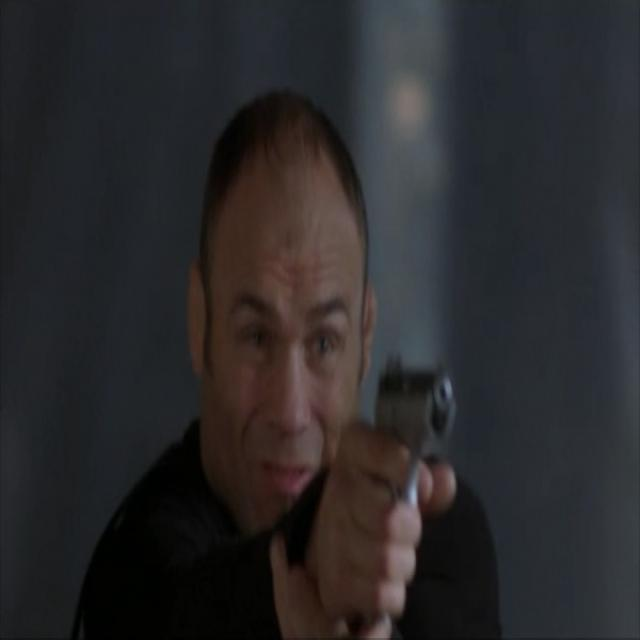weapons: (348, 341, 468, 603)
